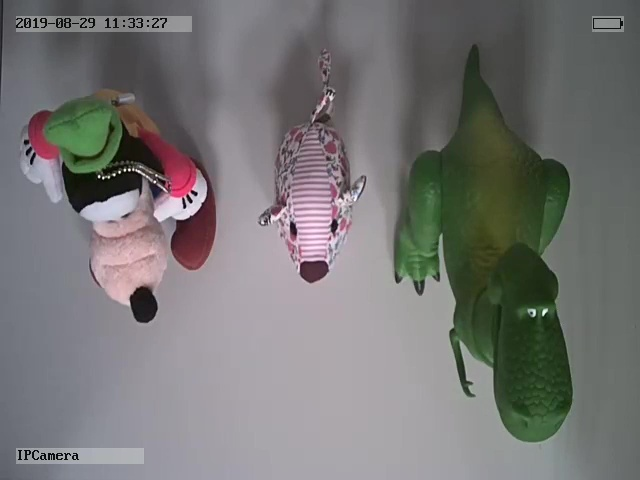goofy: (17, 88, 217, 324)
pig: (258, 50, 367, 284)
rex: (392, 44, 573, 443)
